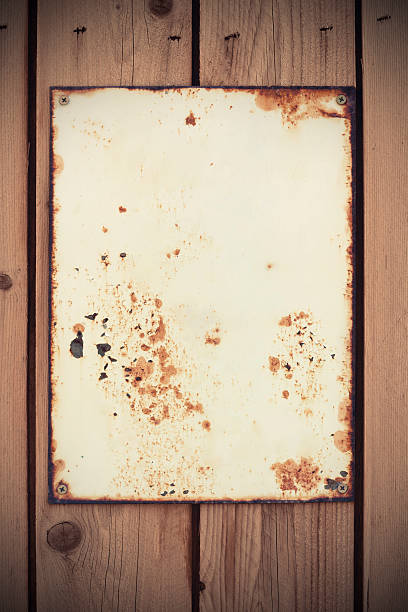rust: (97, 256, 220, 451), (257, 317, 363, 504), (49, 83, 81, 508), (227, 90, 350, 148)
